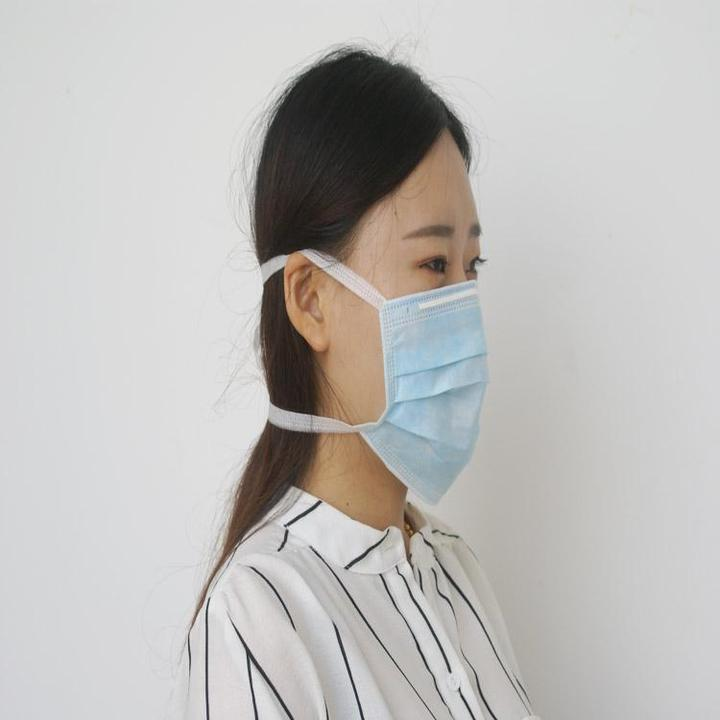face_mask: (331, 142, 495, 441)
